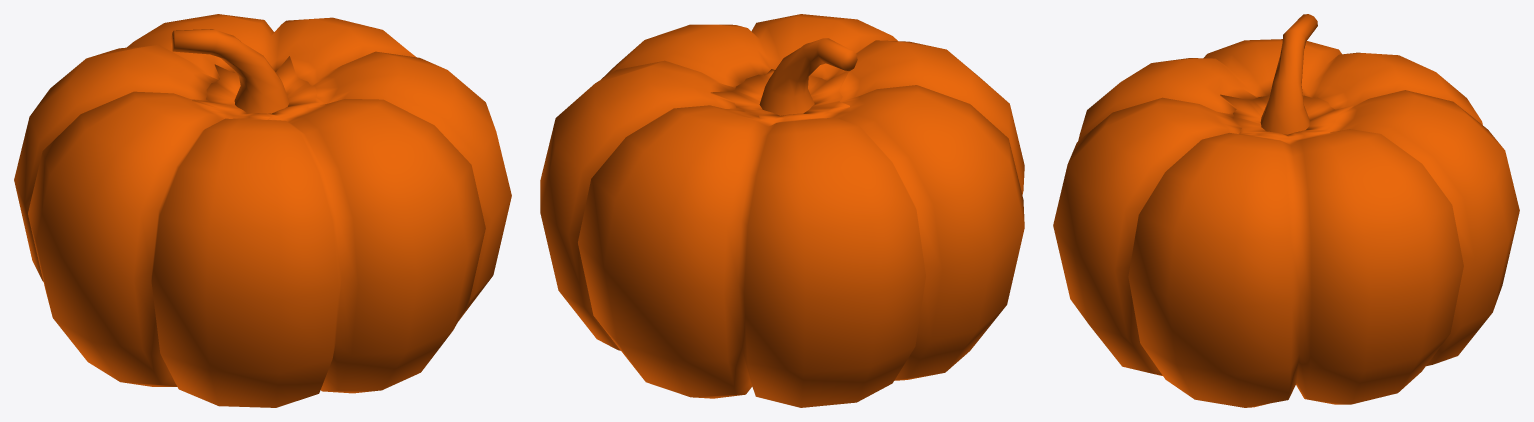
File: Zucca.fbx
The picture shows the model from 3 angles, left to right: view 1: azimuth 30°, elevation 25°; view 2: azimuth 150°, elevation 25°; view 3: azimuth 270°, elevation 25°; orthographic projection. The views are drawn at different scales.
Parts seen in each view (by area): view 1: Zucca.001; view 2: Zucca.001; view 3: Zucca.001.
Part boxes in pixels (x1,y1,x2,y2): Zucca.001: (14, 14, 511, 407); Zucca.001: (540, 14, 1024, 407); Zucca.001: (1053, 14, 1519, 407).
Size of the model in its own units: 61.16 by 44.1 by 61.67.
